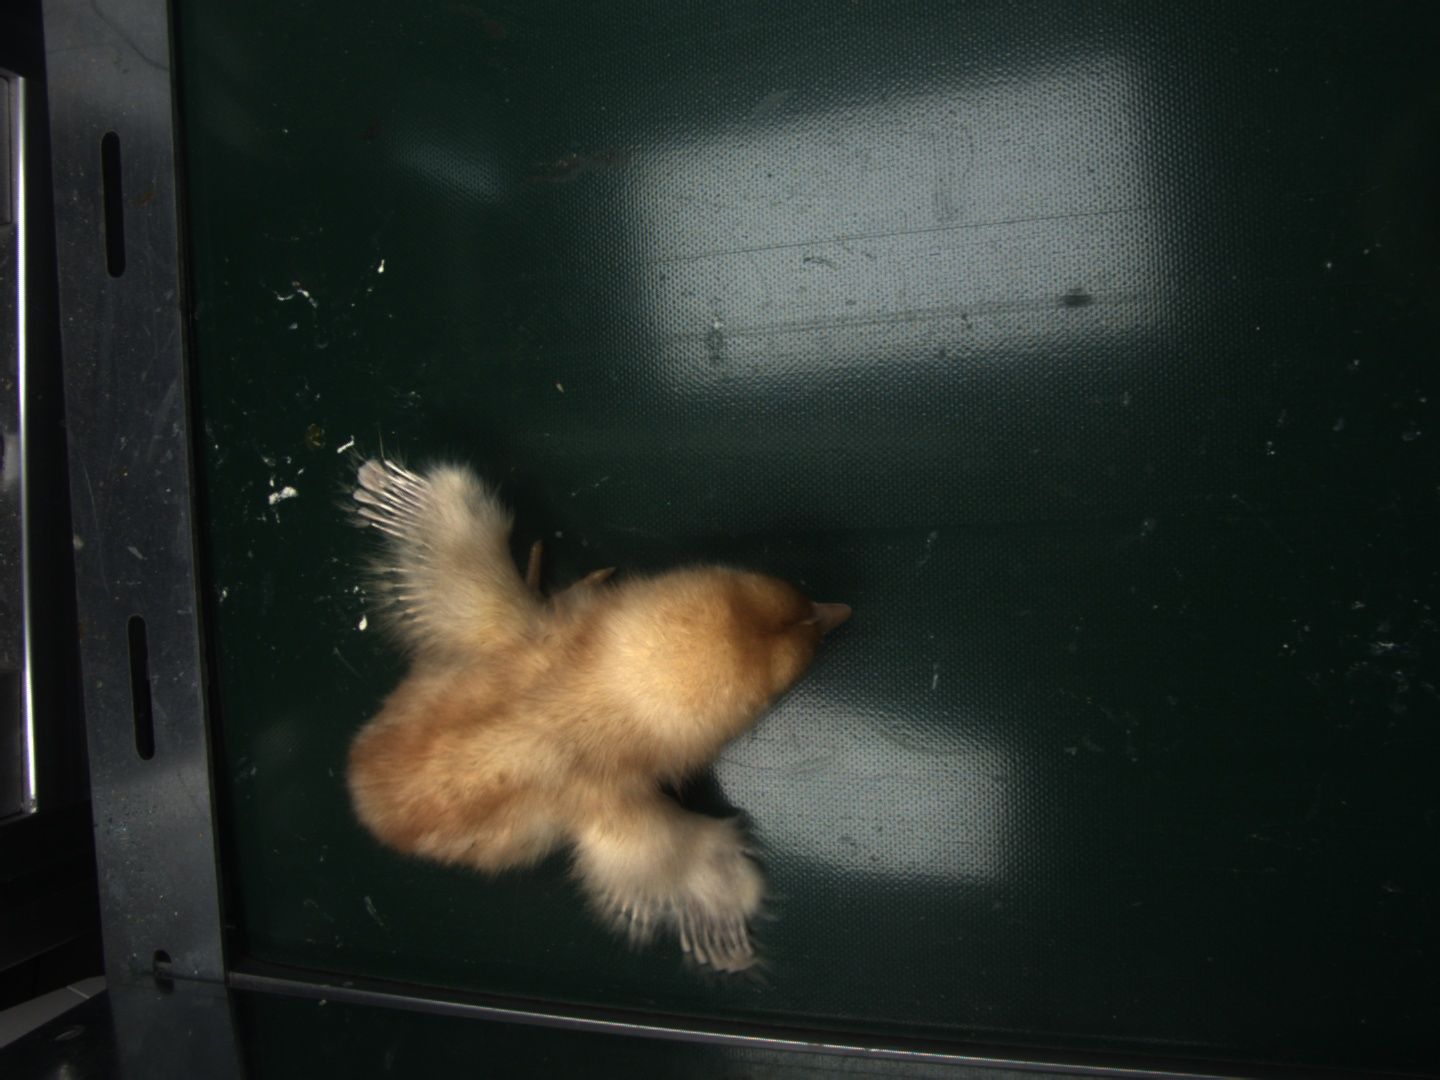female: (348, 455, 430, 542)
